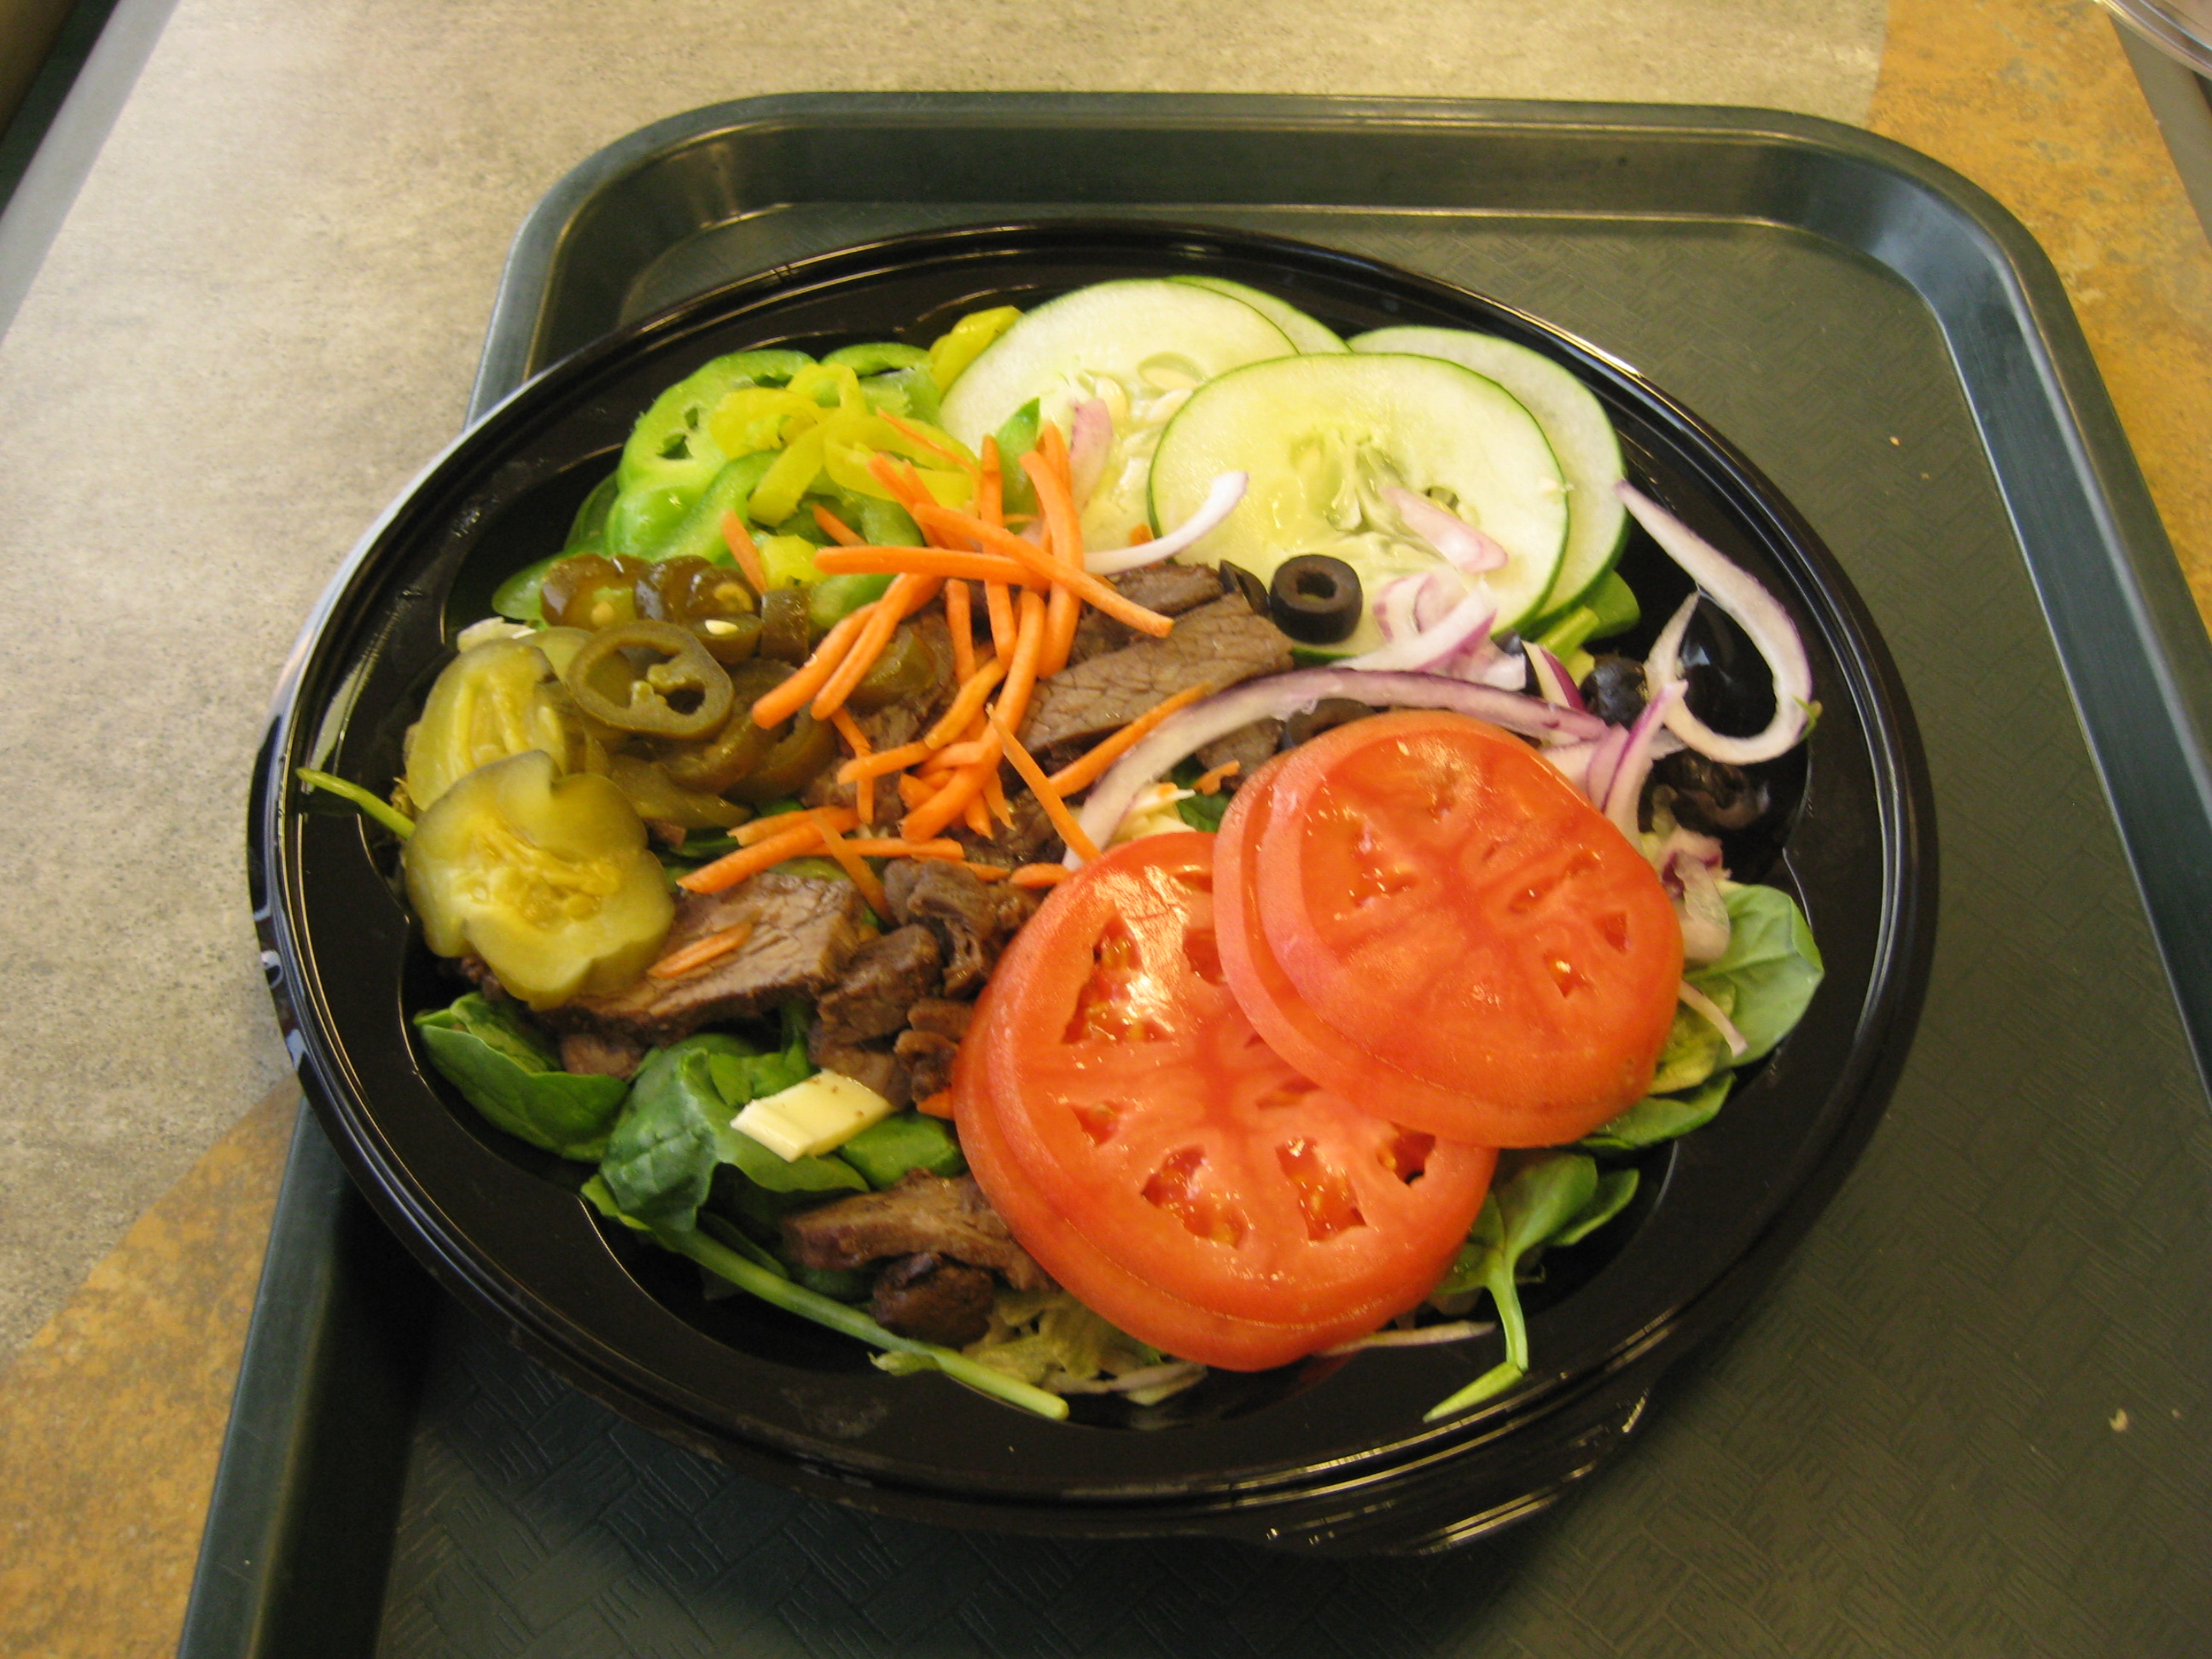salad: (393, 271, 1784, 1382)
